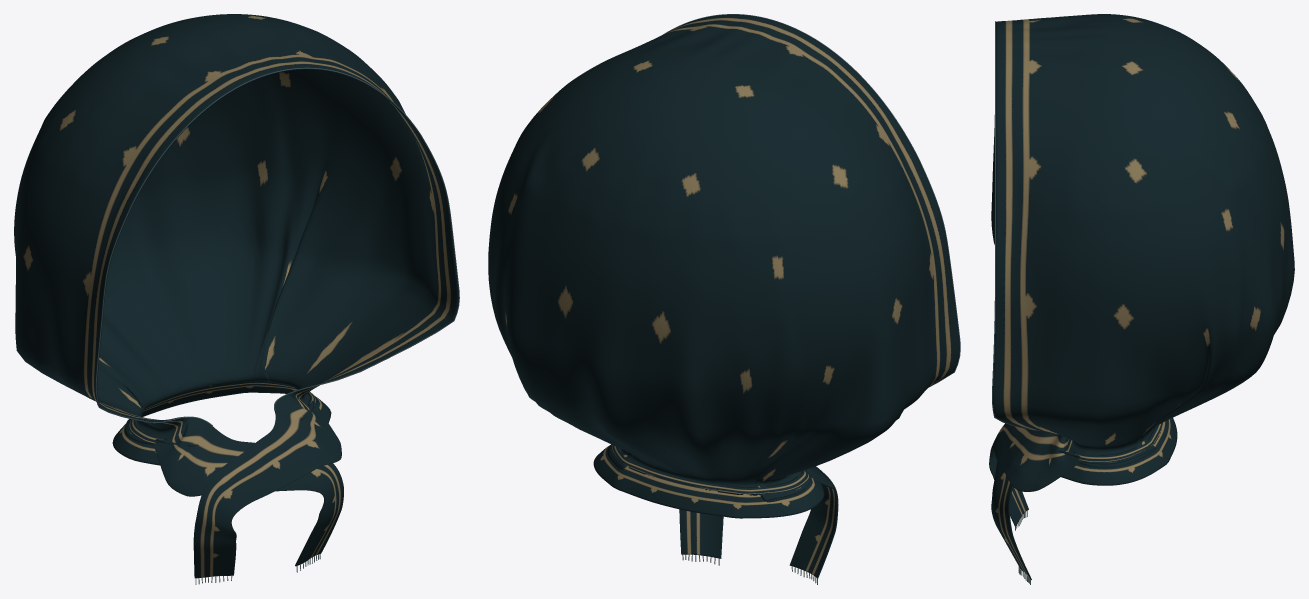
Rendered from Feminine-strappy-pashmina241-headgear.glb.
3 renders of one model, left to right at view 1: azimuth 30°, elevation 25°; view 2: azimuth 150°, elevation 25°; view 3: azimuth 270°, elevation 25°, orthographic. The views are drawn at different scales.
Parts seen in each view (by area): view 1: 226 headgear / Headwear / continuous woven pashmina239, 226 headgear / Headwear / face edge239; view 2: 226 headgear / Headwear / continuous woven pashmina239, 226 headgear / Headwear / face edge239; view 3: 226 headgear / Headwear / continuous woven pashmina239, 226 headgear / Headwear / face edge239.
Boxes of the visible parts, left/top/right/bottom form: 226 headgear / Headwear / continuous woven pashmina239: left=14, top=14, right=458, bottom=578; 226 headgear / Headwear / face edge239: left=95, top=67, right=459, bottom=425; 226 headgear / Headwear / continuous woven pashmina239: left=488, top=14, right=959, bottom=578; 226 headgear / Headwear / face edge239: left=663, top=14, right=960, bottom=387; 226 headgear / Headwear / continuous woven pashmina239: left=989, top=14, right=1294, bottom=579; 226 headgear / Headwear / face edge239: left=991, top=21, right=1041, bottom=430.
Bounding box in the file's own units: 1.02 × 1.35 × 0.717.
Materials: 3 (1 with a texture image).
